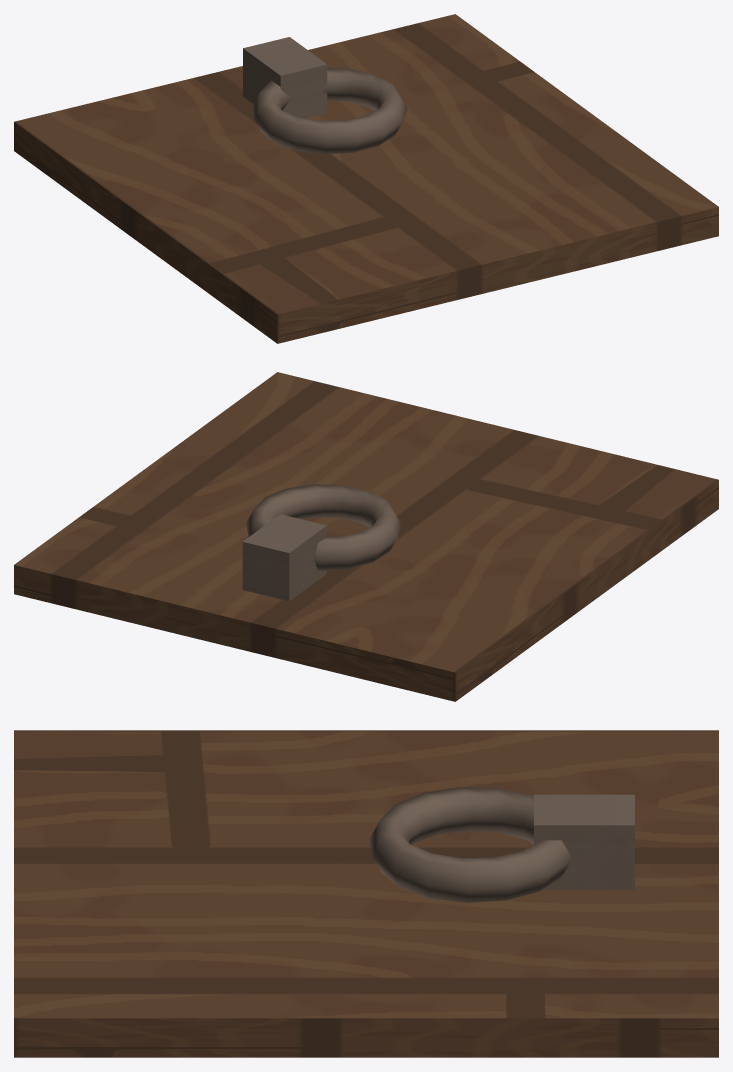
File: MSH_CellarDoor.fbx
3 renders of one model, top to bottom at view 1: azimuth 30°, elevation 25°; view 2: azimuth 150°, elevation 25°; view 3: azimuth 270°, elevation 25°, orthographic. The views are drawn at different scales.
Parts seen in each view (by area): view 1: MSH_CellarDoor; view 2: MSH_CellarDoor; view 3: MSH_CellarDoor.
Boxes of the visible parts, bbox=[...] form: MSH_CellarDoor: bbox=[14, 14, 718, 343]; MSH_CellarDoor: bbox=[14, 372, 718, 701]; MSH_CellarDoor: bbox=[14, 730, 718, 1057].
Bounding box in the file's own units: 106 × 19.46 × 110.
